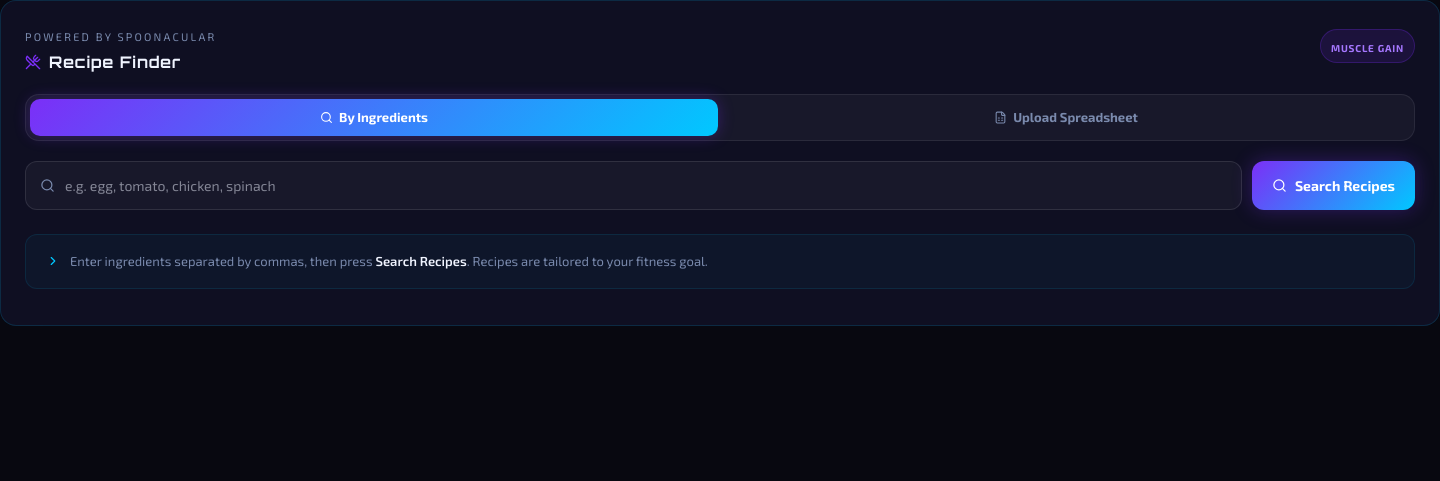
RecipeRecommendations — Manual Search › shows error message on API failure
This screenshot has width=1440, height=481.
Type "test" into the field with placeholder "e.g. egg, tomato, chicken, spinach" at [646, 186], box [65,162,1227,209]
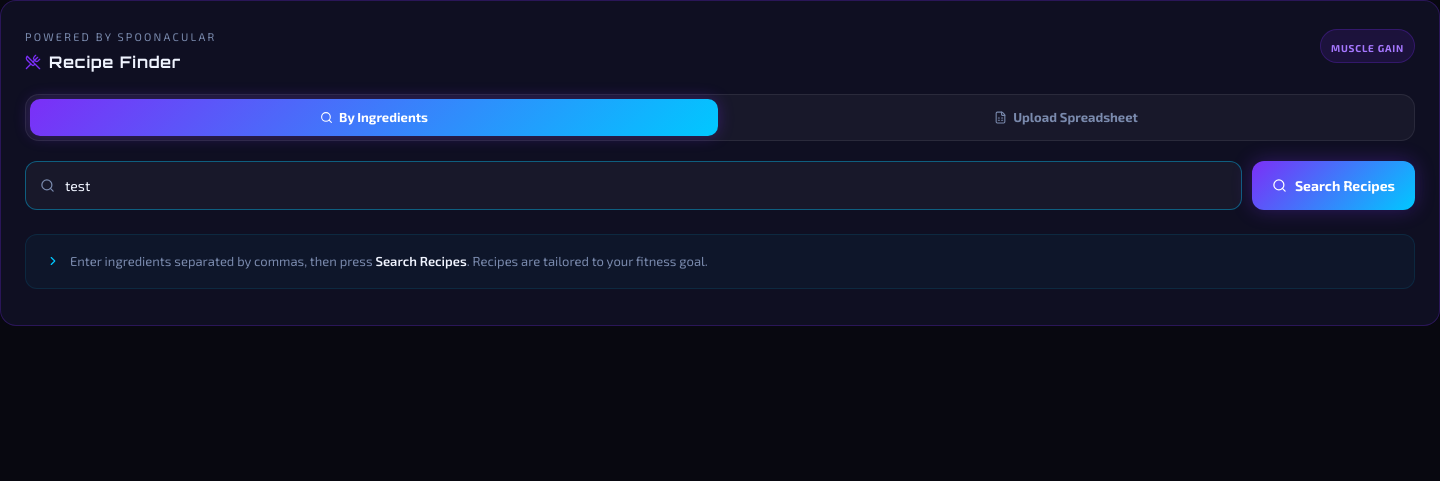
Click the button "Search Recipes" at [1333, 186], box [1252,161,1415,210]
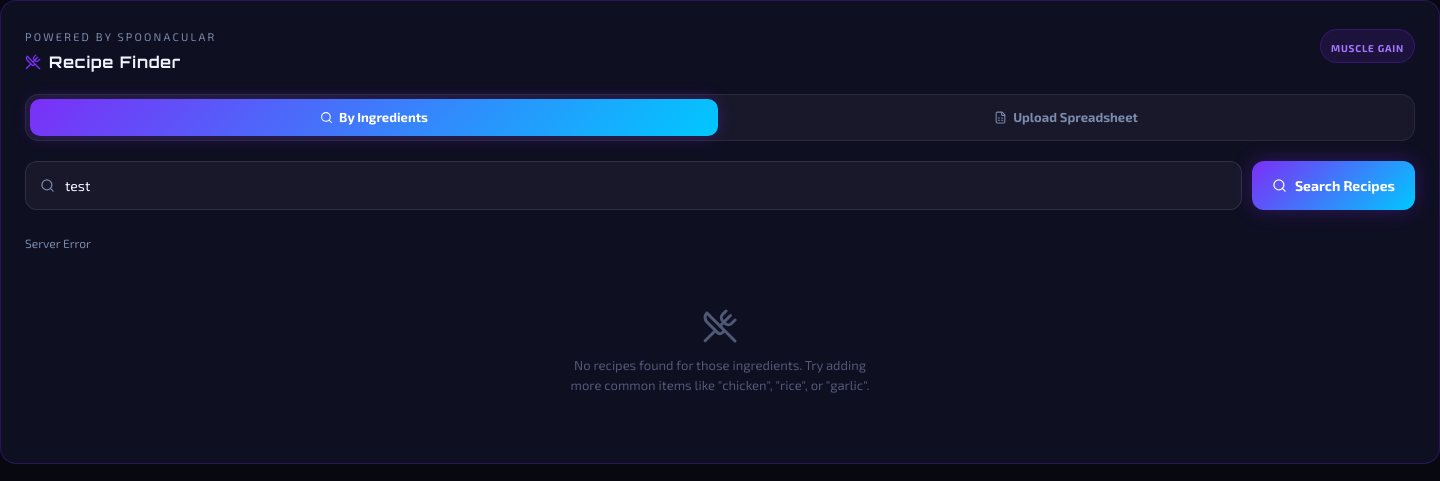
Check: the text "Server Error" is shown, box [25,234,91,252]
